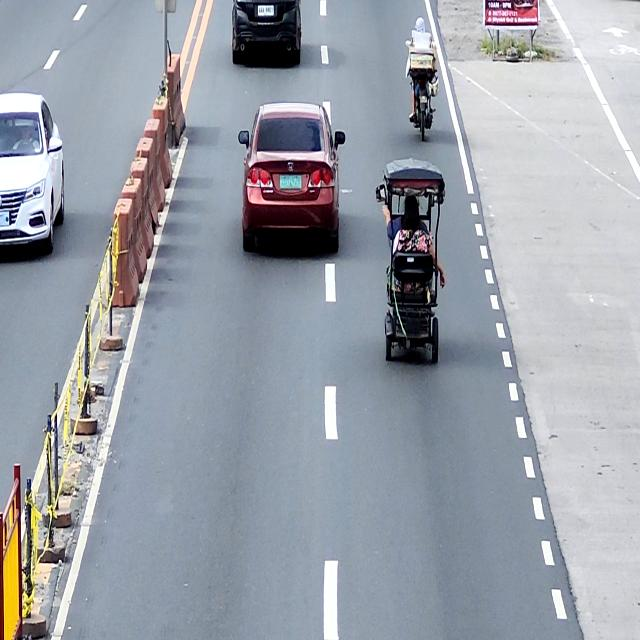Car: (238, 101, 346, 253), (0, 91, 65, 253), (232, 0, 303, 65)
E-bike: (375, 156, 446, 364)
License-Plate: (278, 172, 302, 190), (257, 5, 276, 18)
Motorcycle: (408, 15, 436, 146)
